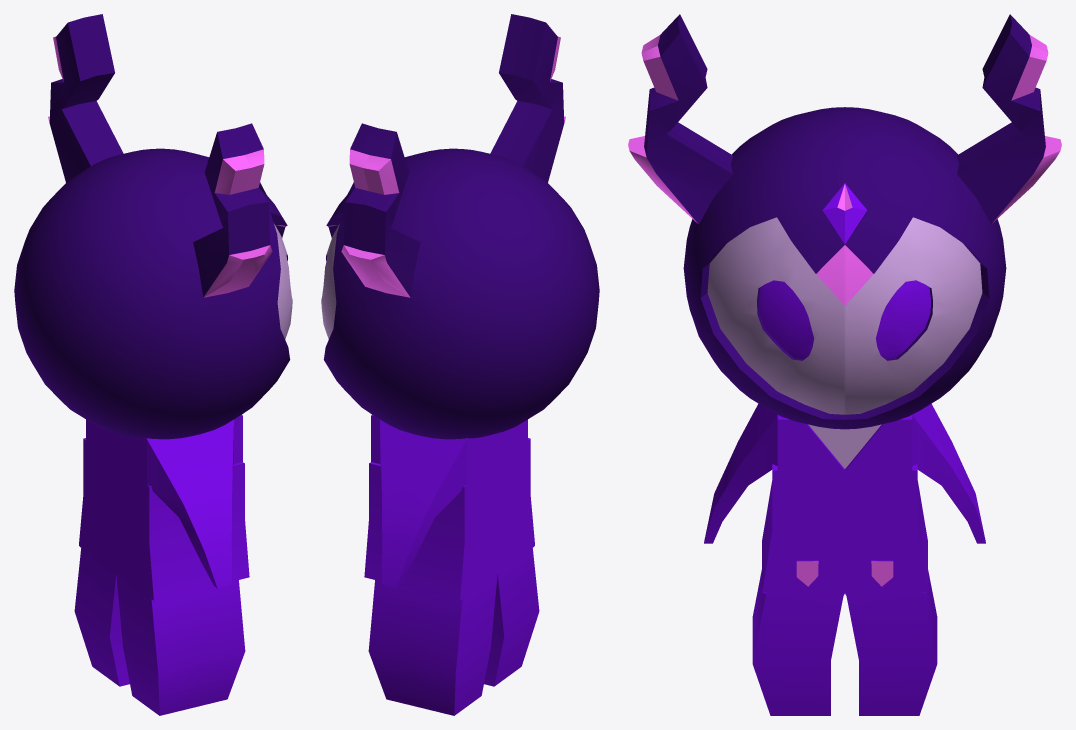
The model's file is Senhor das chamas.fbx.
The picture shows the model from 3 angles, left to right: view 1: azimuth 30°, elevation 25°; view 2: azimuth 150°, elevation 25°; view 3: azimuth 270°, elevation 25°; orthographic projection. The views are drawn at different scales.
Visible parts, largest first — view 1: Sphere; view 2: Sphere; view 3: Sphere.
Part boxes in pixels (bbox=[...]): Sphere: bbox=[14, 14, 292, 715]; Sphere: bbox=[321, 14, 599, 715]; Sphere: bbox=[628, 14, 1061, 715].
Size of the model in its own units: 931 by 2185 by 1274.
